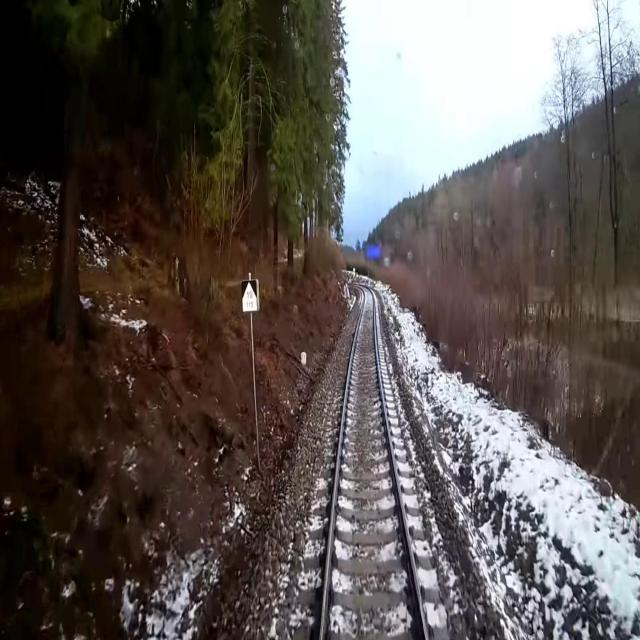rail-track: (322, 286, 424, 639)
